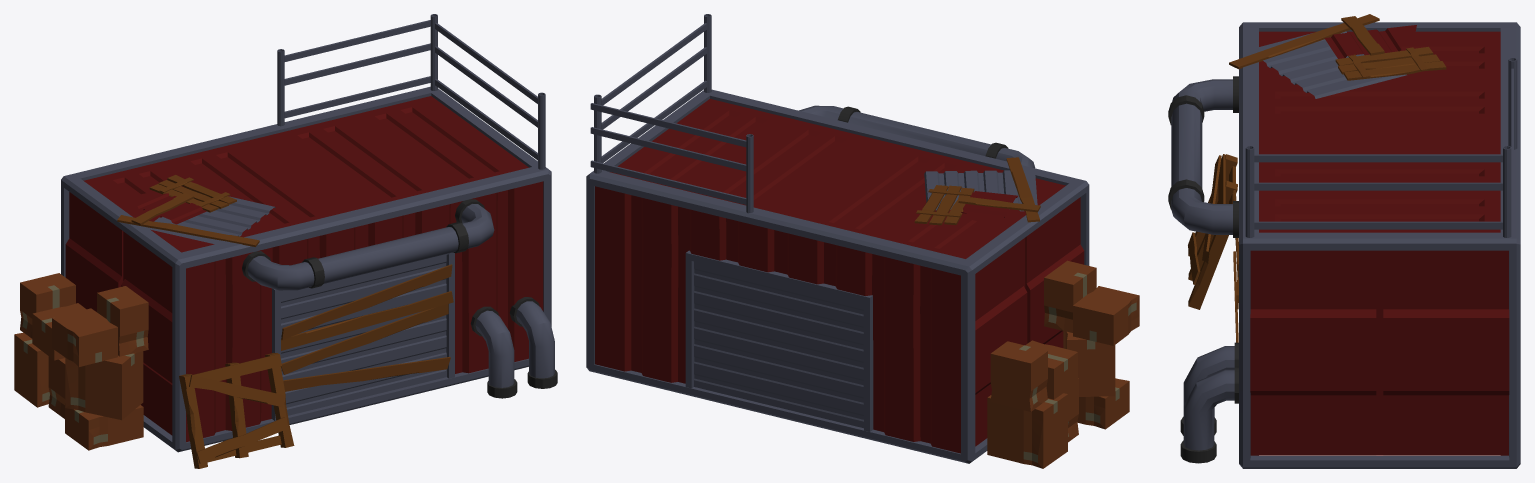
3 renders of one model, left to right at view 1: azimuth 30°, elevation 25°; view 2: azimuth 150°, elevation 25°; view 3: azimuth 270°, elevation 25°, orthographic. The views are drawn at different scales.
Visible parts, largest first — view 1: Structure_1.001_Cube.035; view 2: Structure_1.001_Cube.035; view 3: Structure_1.001_Cube.035.
Part boxes in pixels (x1,y1,x2,y2): Structure_1.001_Cube.035: (14,14,557,468); Structure_1.001_Cube.035: (586,14,1139,468); Structure_1.001_Cube.035: (1168,14,1520,468).
Size of the model in its own units: 1067 by 610 by 605.
